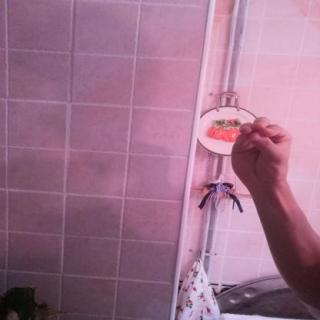HA: (220, 107, 305, 197)
